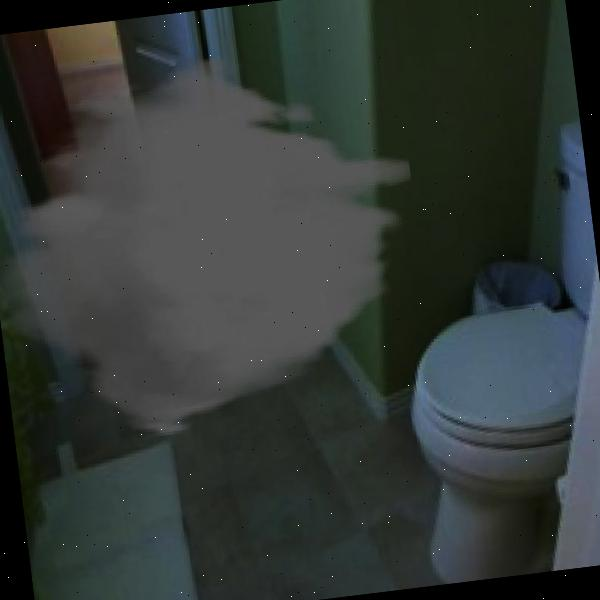smoke: (0, 33, 439, 456)
